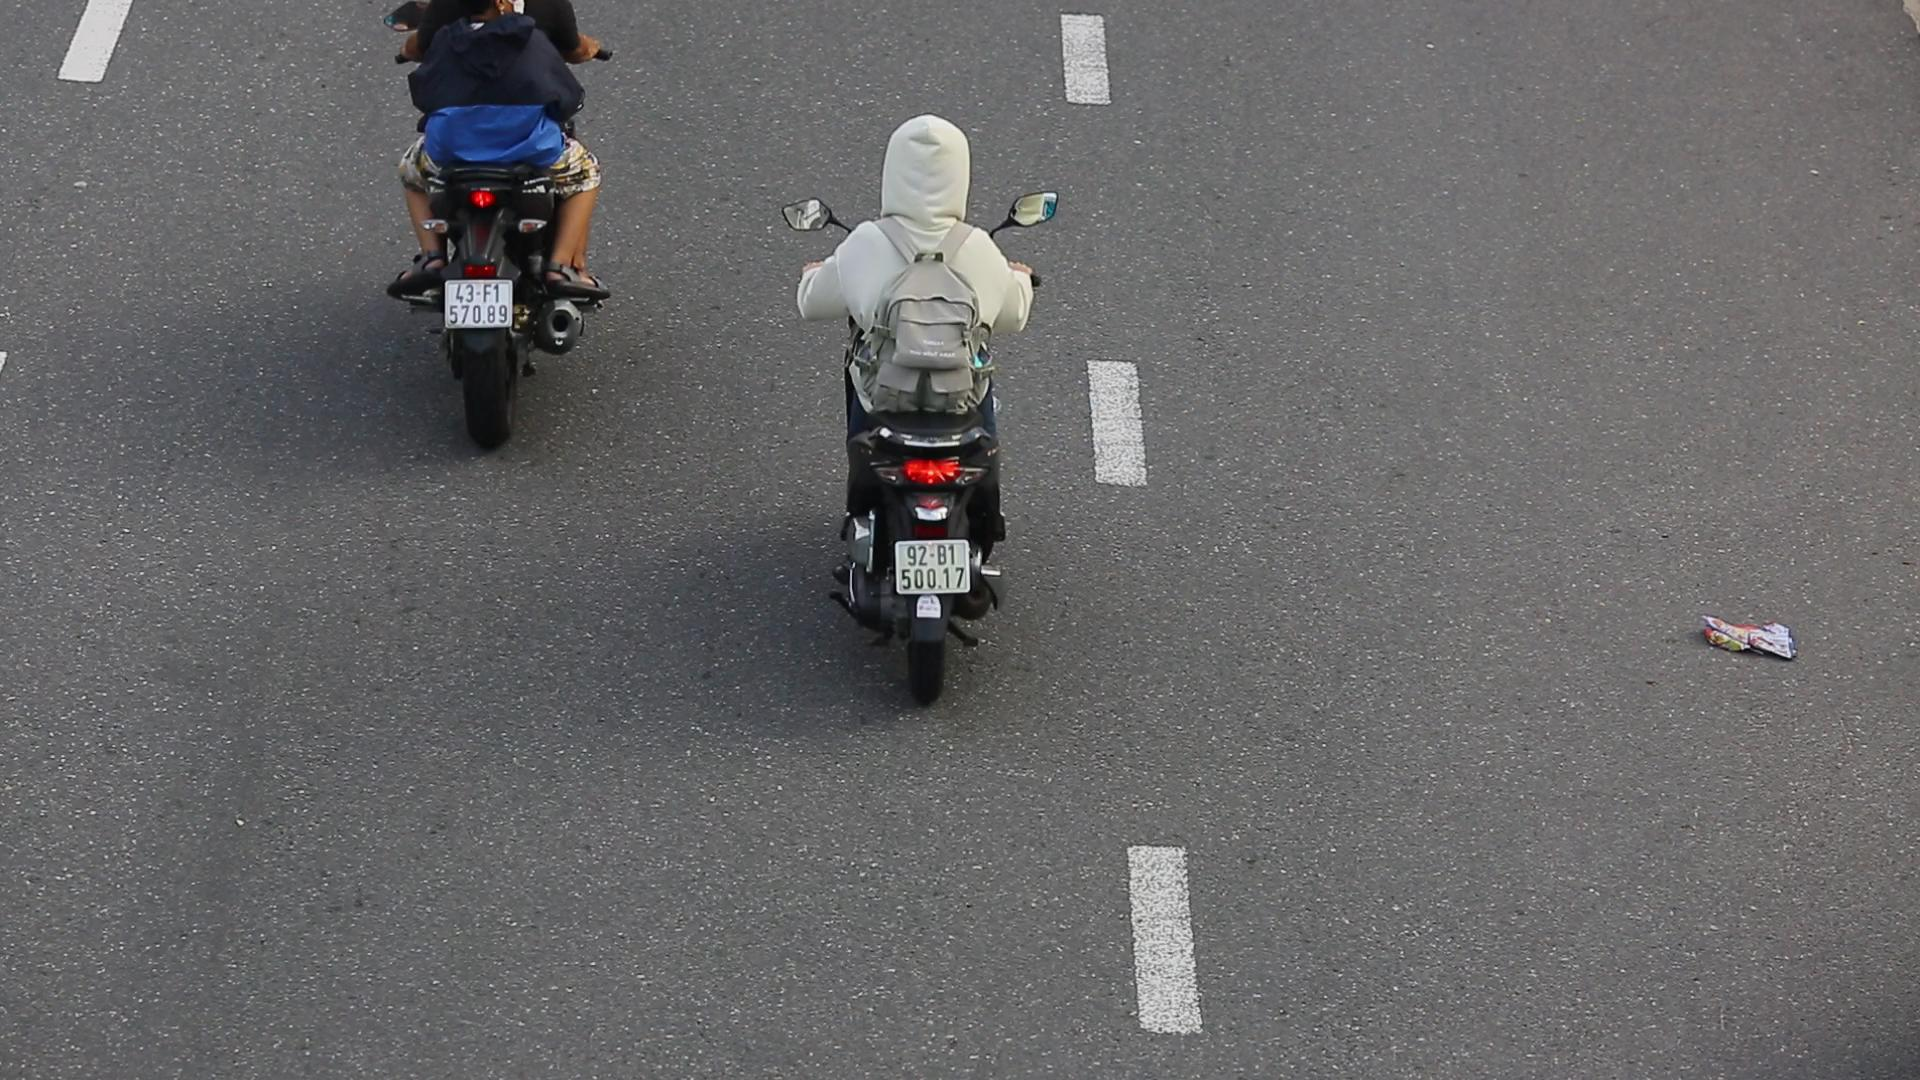motobike: (756, 83, 1081, 727)
